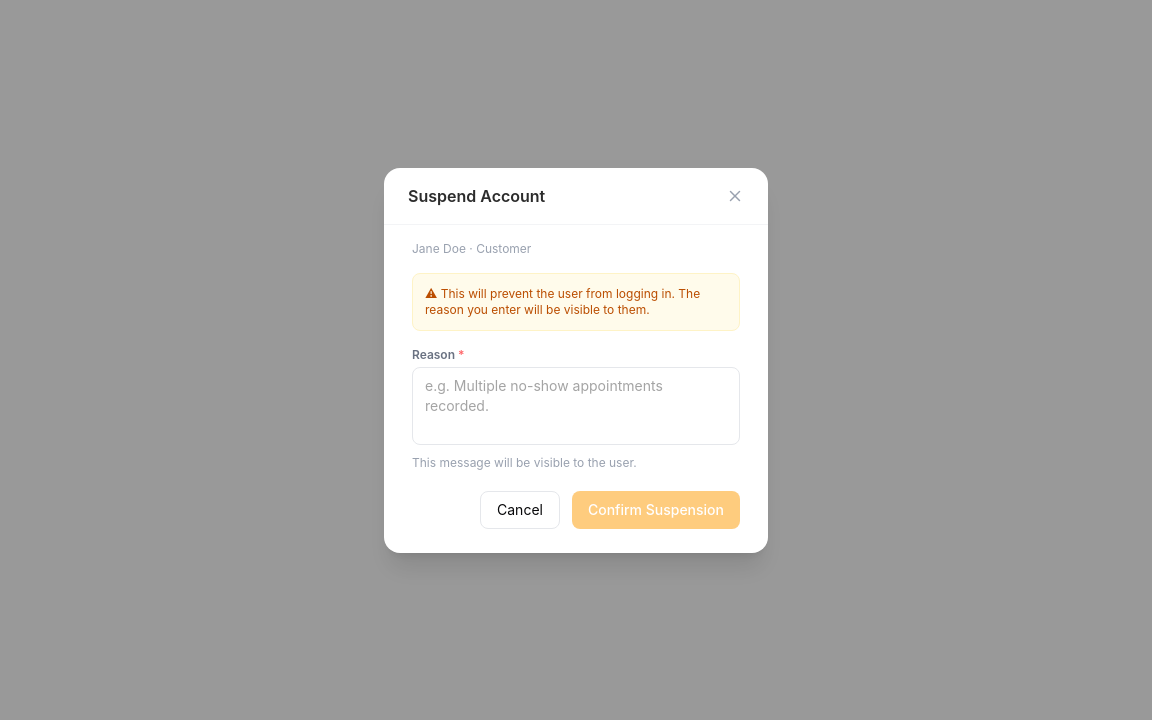
Test: DeactivateAccountModal › confirm button enables after typing a reason
In the text box: (576, 406) [412,366,740,444], type "No-shows"
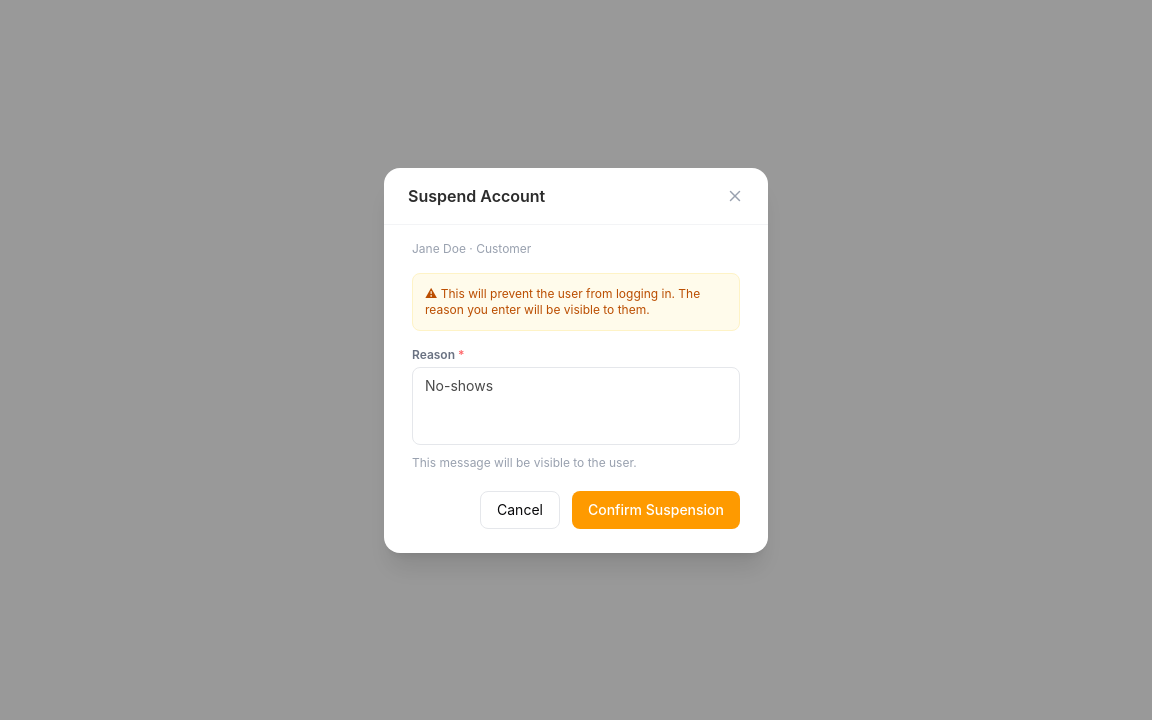
Now the button "Confirm Suspension" is enabled, box [572,490,740,528]
